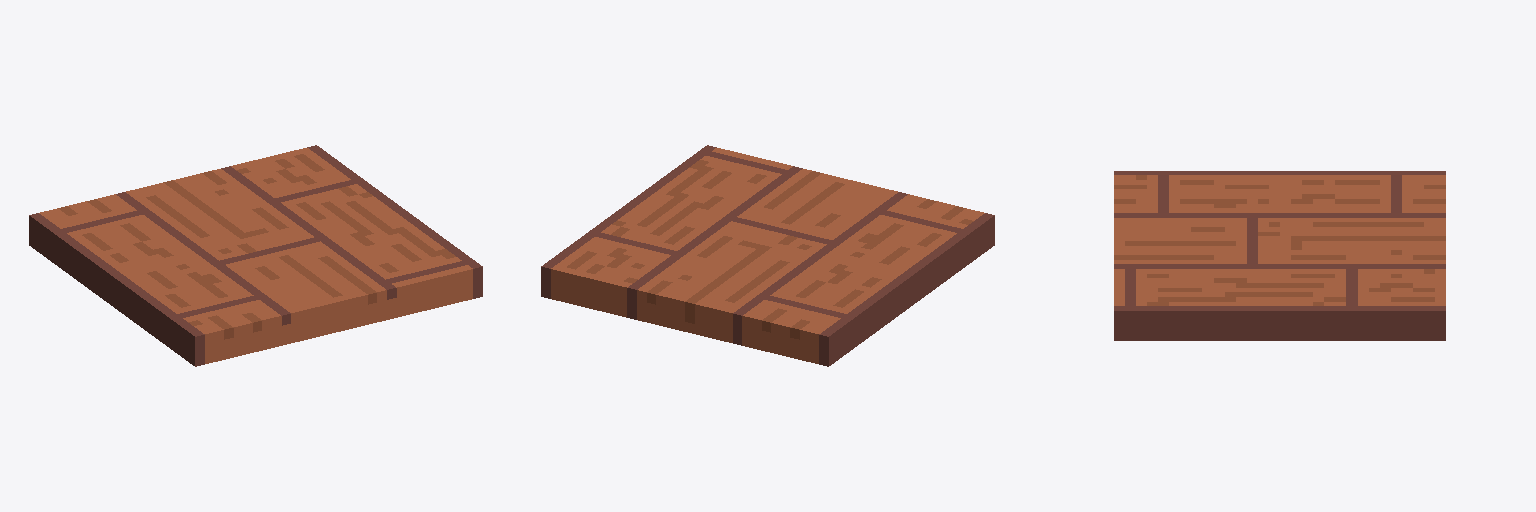
The picture shows the model from 3 angles: view 1: azimuth 30°, elevation 25°; view 2: azimuth 150°, elevation 25°; view 3: azimuth 270°, elevation 25°; orthographic projection.
Parts seen in each view (by area): view 1: object 1; view 2: object 1; view 3: object 1.
Part boxes in pixels (left/top/right/bottom): object 1: left=29, top=145, right=482, bottom=366; object 1: left=541, top=145, right=994, bottom=366; object 1: left=1114, top=171, right=1445, bottom=340.
Size of the model in its own units: 3 by 0.3 by 3.
Materials: 1 (1 with a texture image).